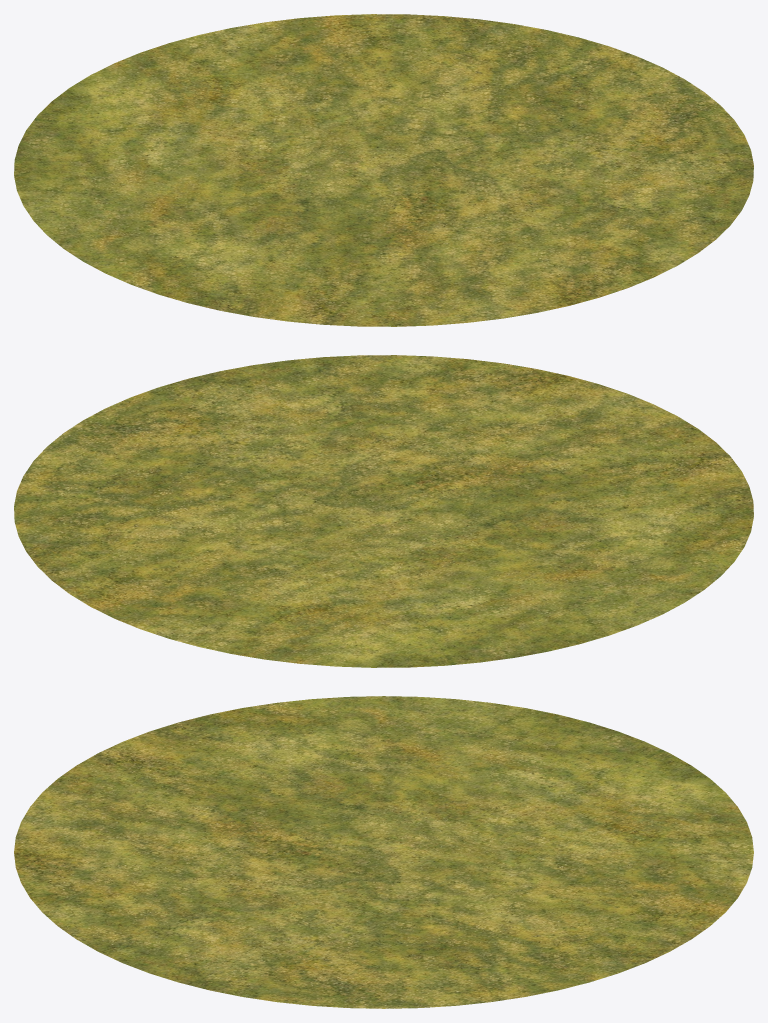
File: autumn_floor.glb
3 renders of one model, top to bottom at view 1: azimuth 30°, elevation 25°; view 2: azimuth 150°, elevation 25°; view 3: azimuth 270°, elevation 25°, orthographic.
Visible parts, largest first — view 1: Autumn.001; view 2: Autumn.001; view 3: Autumn.001.
Part boxes in pixels (x1,y1,x2,y2): Autumn.001: (14,14,753,326); Autumn.001: (14,355,753,667); Autumn.001: (14,696,753,1008).
Bounding box in the file's own units: 104 × 0 × 104.
Materials: 1 (1 with a texture image).
